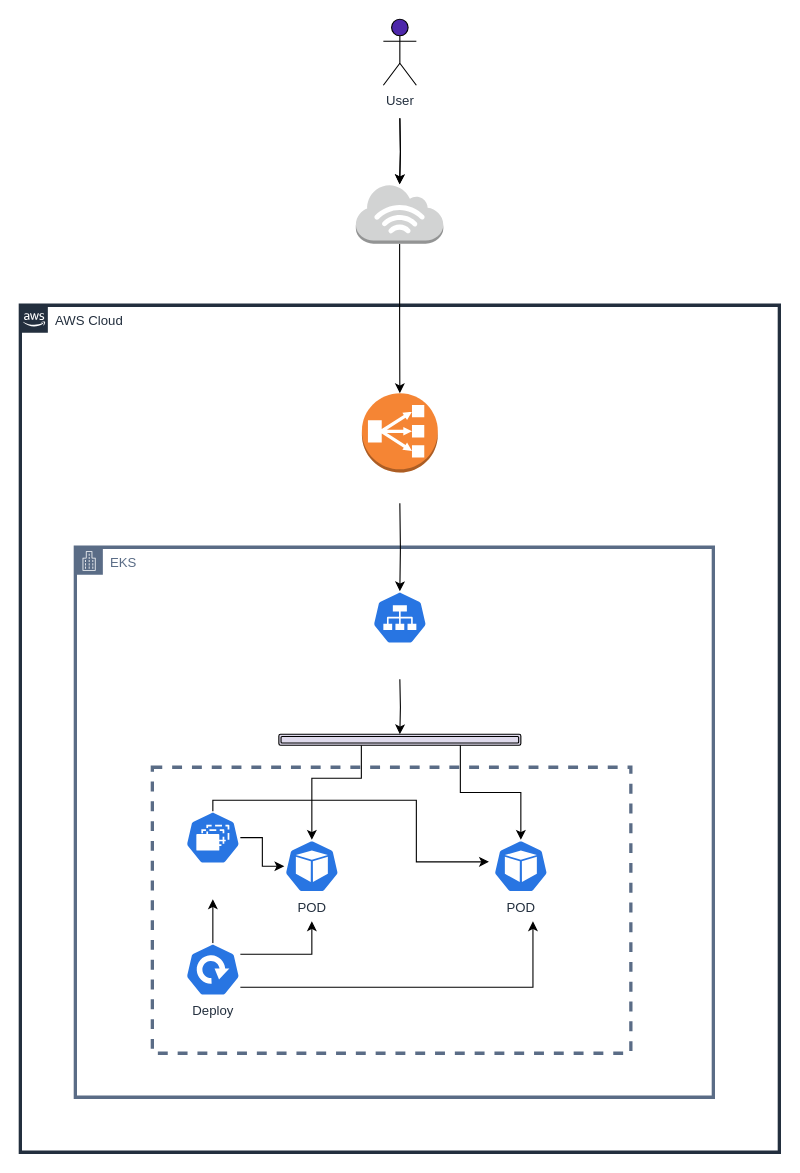
This 800x1173 diagram has some shape labels left out. Each missing label, with the centre of its shape:
Load Balancer: the point at 399,432
Replica Set: the point at 212,837
Service: the point at 399,617
